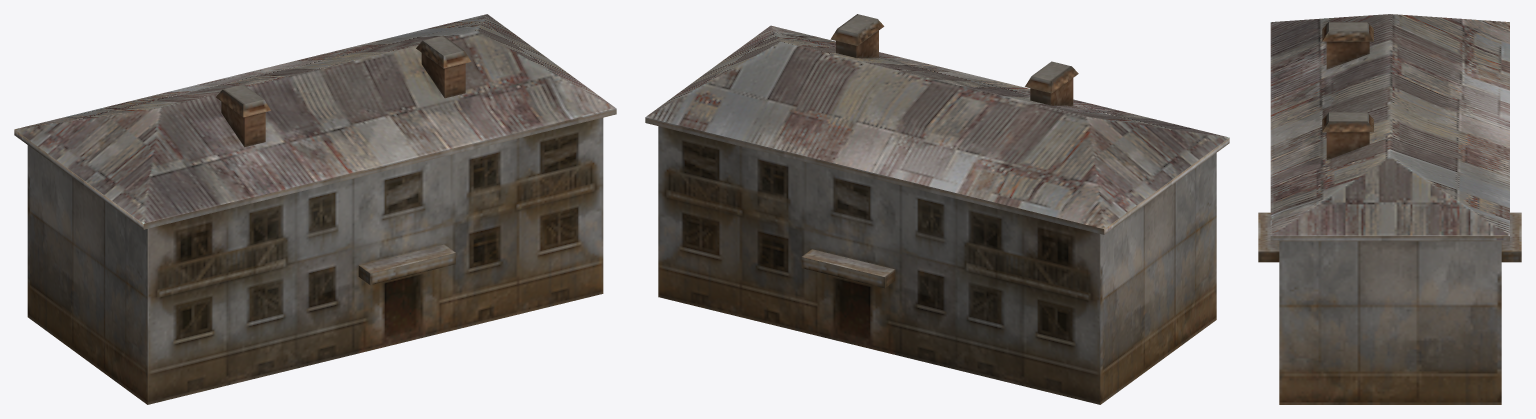
File: TD_Building_04.fbx
3 views of the same model, side by side, from view 1: azimuth 30°, elevation 25°; view 2: azimuth 150°, elevation 25°; view 3: azimuth 270°, elevation 25° (orthographic). The views are drawn at different scales.
Parts seen in each view (by area): view 1: Building_04; view 2: Building_04; view 3: Building_04.
Part boxes in pixels (box(x1,y1,x2,y2)): Building_04: box(14, 14, 616, 404); Building_04: box(645, 14, 1229, 404); Building_04: box(1258, 14, 1521, 404).
Size of what is drawn, in the model's own units: 2179 by 1104 by 1134.
